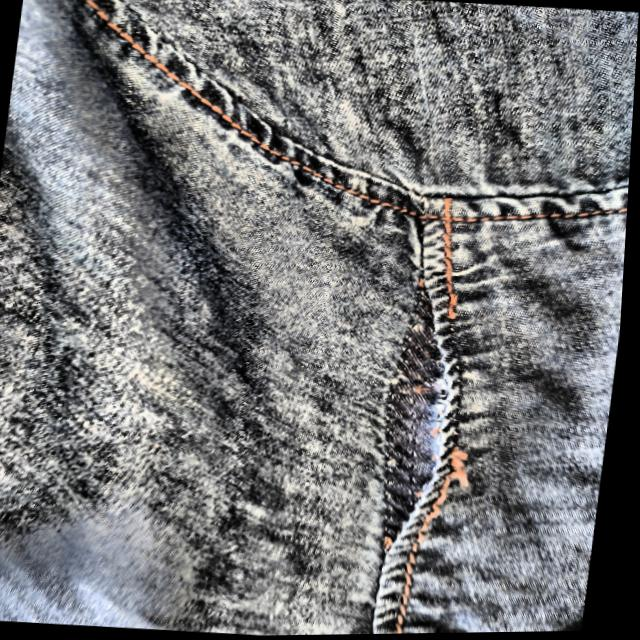seam: (344, 279, 486, 554)
